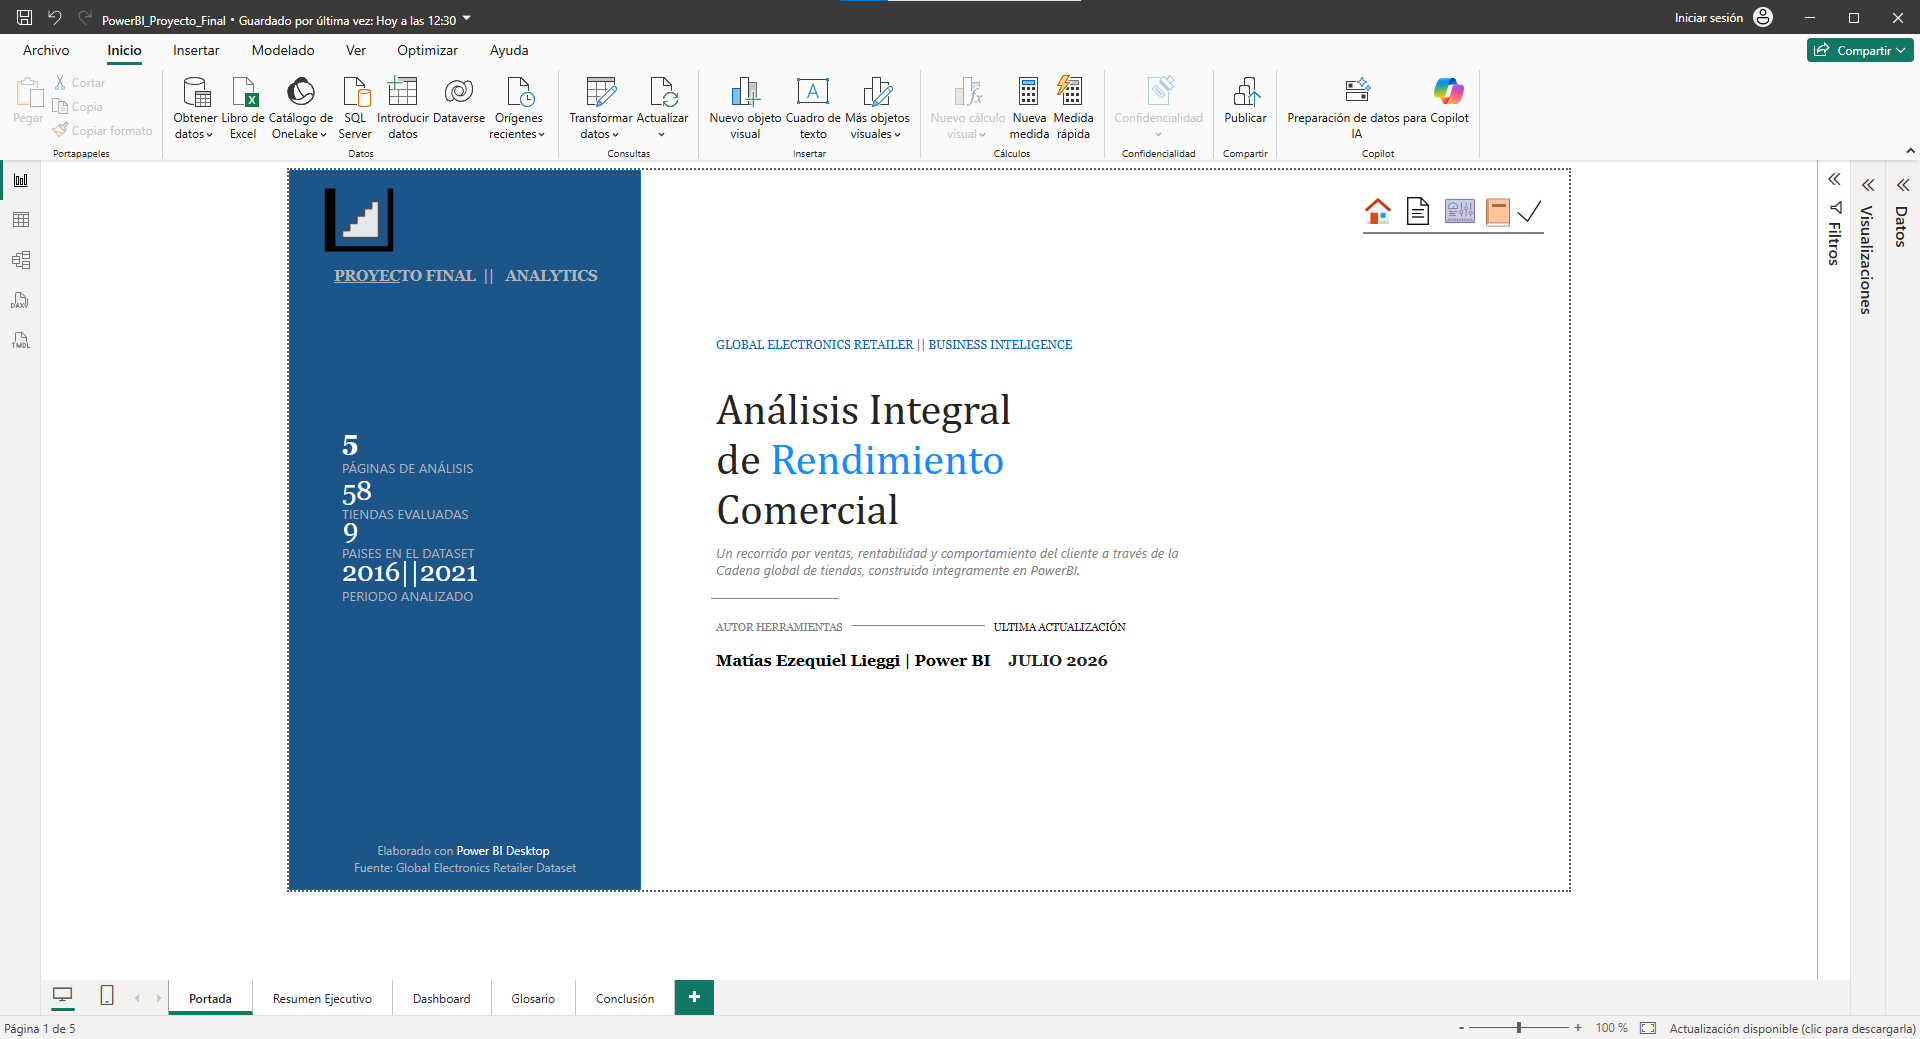

What the dashboard file says about the page in this screenshot:
{"tool":"powerbi","page":{"name":"Portada","canvas":[1280,720],"ordinal":0},"visuals":[{"type":"shape","box":[0,0,352.1,719.8],"z":0},{"type":"image","box":[27.8,0,83.6,100.2],"z":0,"group":"g1"},{"type":"image","box":[1074.2,20.6,30.1,41],"z":1000},{"type":"image","box":[39.9,30.5,62.2,38.9],"z":1000,"group":"g1"},{"type":"group","id":"g1","title":"Grupo 1","box":[27.8,0,84.4,100.8],"z":2000},{"type":"image","box":[1113.8,19.5,30.1,41],"z":3000},{"type":"textbox","box":[40.1,91.6,277.8,48.4],"z":4000},{"type":"image","box":[1193.4,22.1,30.1,41],"z":5000},{"type":"textbox","box":[47.7,250.9,44.7,57.4],"z":6000},{"type":"image","box":[1225.4,20,30.1,41],"z":7000},{"type":"textbox","box":[47.7,284,142,32.1],"z":8000},{"type":"image","box":[1155.6,19.9,30.1,42],"z":9000},{"type":"textbox","box":[47.7,300.5,44.7,57.4],"z":10000},{"type":"shape","box":[1074.2,54.5,181.1,16.5],"z":11000},{"type":"textbox","box":[47.7,329.7,142,32.1],"z":12000},{"type":"textbox","box":[48.6,339.5,44.7,57.4],"z":13000},{"type":"textbox","box":[47.7,368.6,152.7,32.1],"z":14000},{"type":"textbox","box":[47.7,382.2,177,59.3],"z":15000},{"type":"textbox","box":[47.7,412.4,152.7,32.1],"z":16000},{"type":"textbox","box":[31.1,666.3,289.8,44.7],"z":17000},{"type":"textbox","box":[422.1,159.5,388.1,41.8],"z":18000},{"type":"textbox","box":[422.1,208.1,438.7,160.5],"z":19000},{"type":"textbox","box":[422.1,368.6,489.2,160.5],"z":20000},{"type":"shape","box":[422.1,348.2,127.4,160.5],"z":21000},{"type":"textbox","box":[422.1,441.6,455.2,136.2],"z":22000},{"type":"shape","box":[563.2,375.4,133.3,160.5],"z":23000}]}

Visuals, with their boxes on the page's 1280x720 design canvas (x1, y1, x2, y2). These are canvas units, not pixel positions in the 1920x1039 screenshot, which may show the page scaled, cropped or inside an application window:
shape: locate(0, 0, 352, 720)
image: locate(28, 0, 111, 100)
image: locate(1074, 21, 1104, 62)
image: locate(40, 30, 102, 69)
"Grupo 1" group: locate(28, 0, 112, 101)
image: locate(1114, 20, 1144, 60)
textbox: locate(40, 92, 318, 140)
image: locate(1193, 22, 1224, 63)
textbox: locate(48, 251, 92, 308)
image: locate(1225, 20, 1256, 61)
textbox: locate(48, 284, 190, 316)
image: locate(1156, 20, 1186, 62)
textbox: locate(48, 300, 92, 358)
shape: locate(1074, 54, 1255, 71)
textbox: locate(48, 330, 190, 362)
textbox: locate(49, 340, 93, 397)
textbox: locate(48, 369, 200, 401)
textbox: locate(48, 382, 225, 442)
textbox: locate(48, 412, 200, 444)
textbox: locate(31, 666, 321, 711)
textbox: locate(422, 160, 810, 201)
textbox: locate(422, 208, 861, 369)
textbox: locate(422, 369, 911, 529)
shape: locate(422, 348, 550, 509)
textbox: locate(422, 442, 877, 578)
shape: locate(563, 375, 696, 536)
